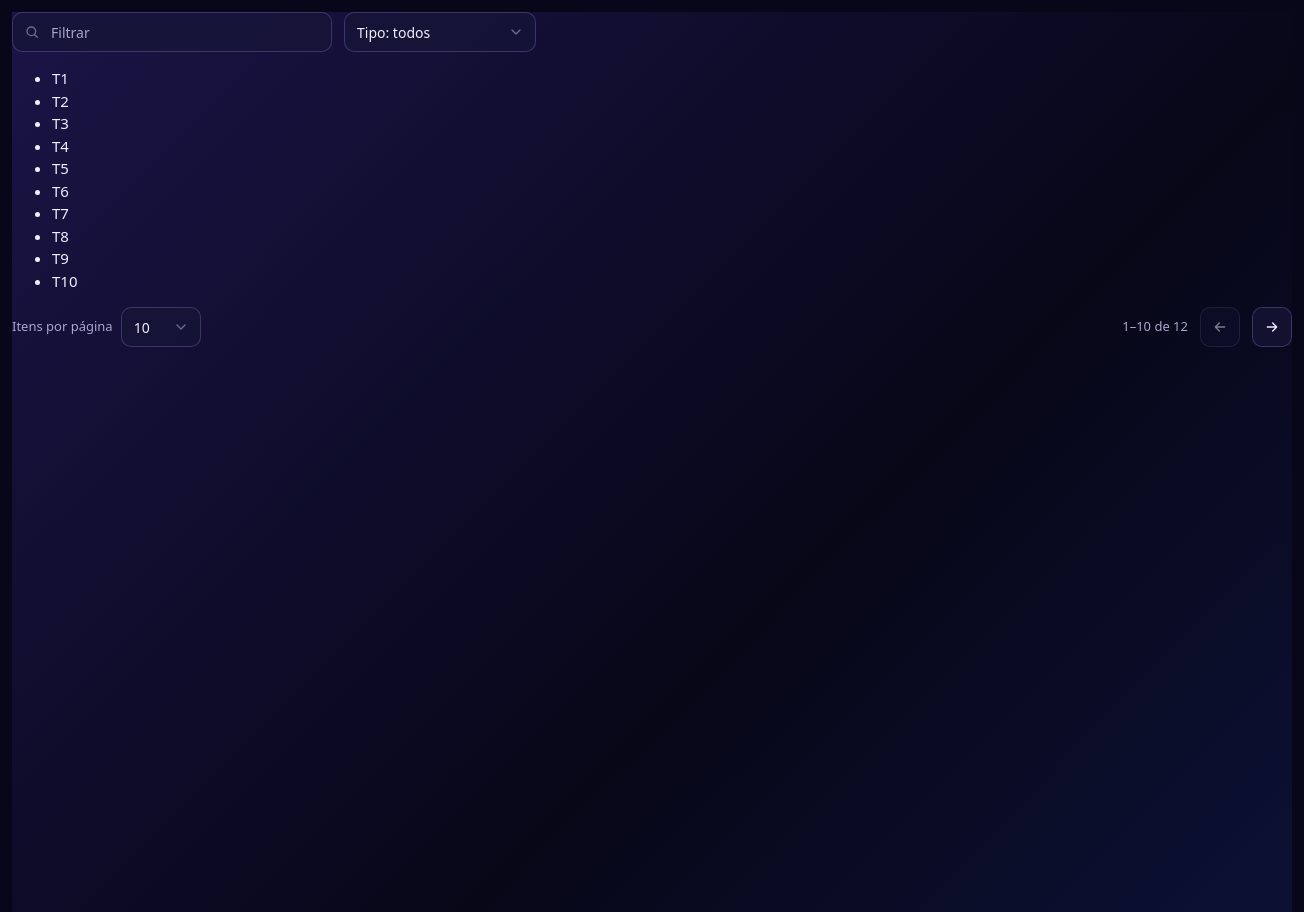
Test case: table paging › a filter change goes back to the first page
The image size is (1304, 912).
Select "5" in the dropdown labelled "Itens por página". click: (161, 327)
box: [121, 307, 201, 347]
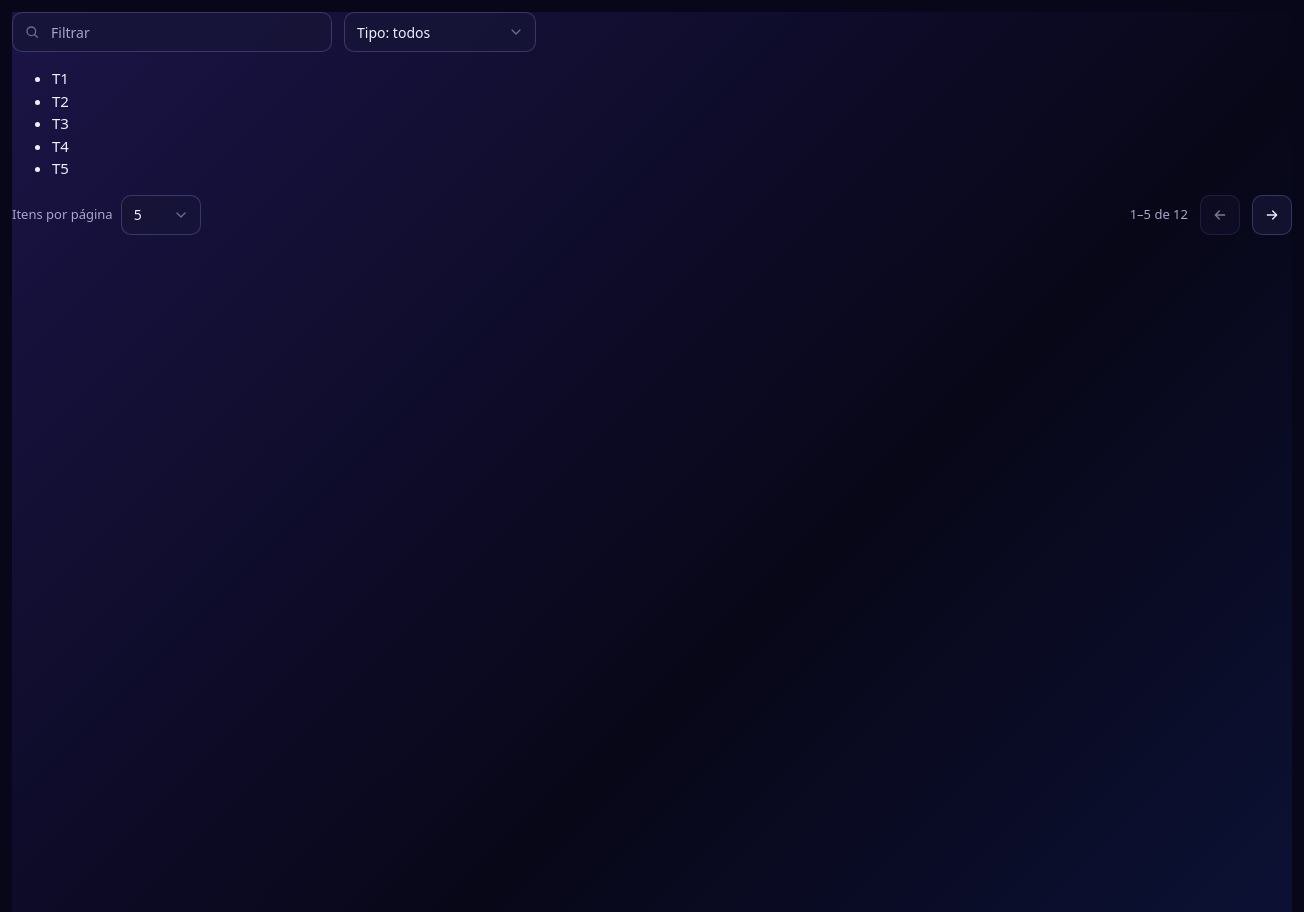
Click the button named "Próxima página". click: (1272, 214)
box: [1252, 194, 1292, 234]
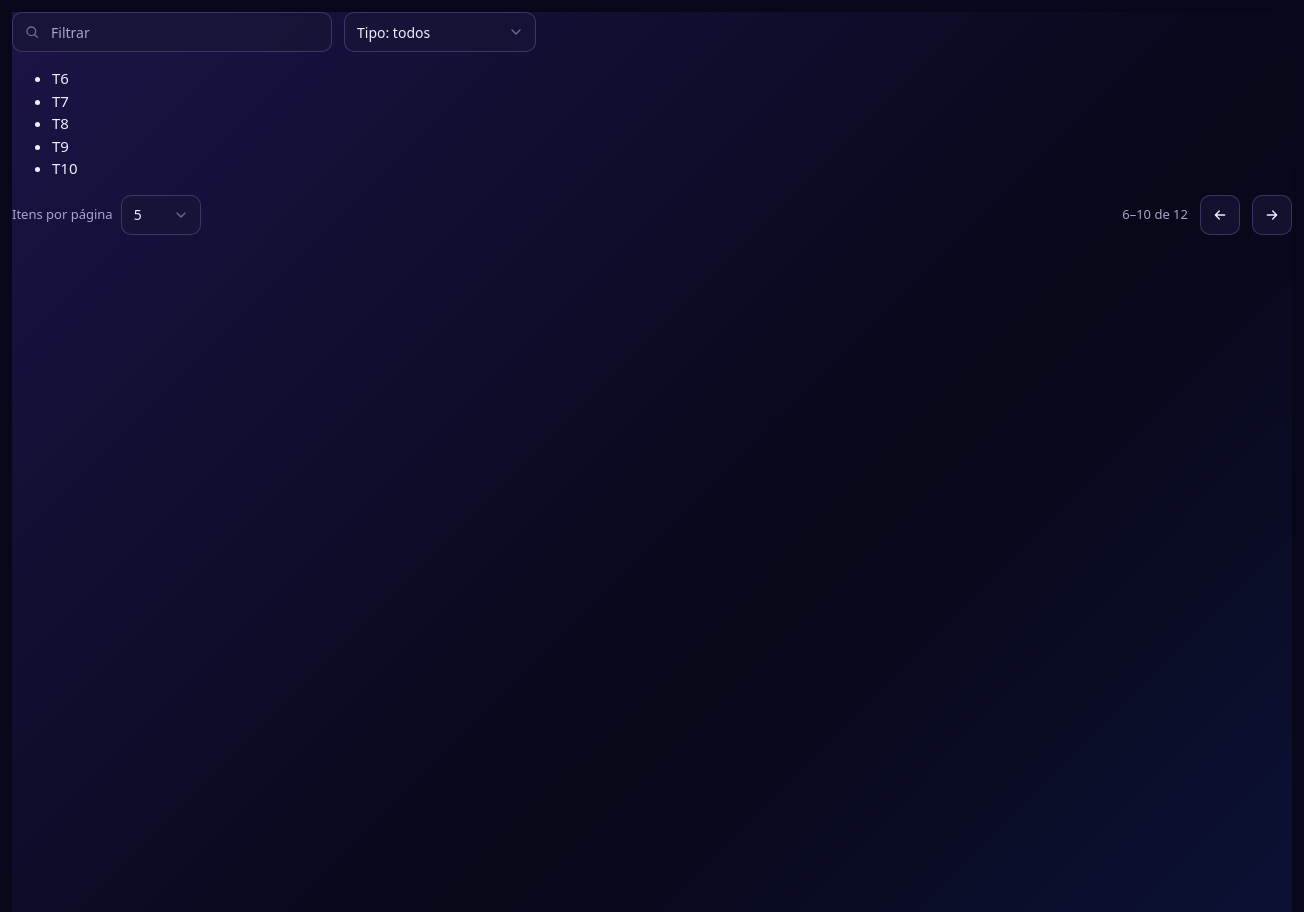
Select "Tipo b" in the dropdown named "Tipo". click: (440, 32)
box: [344, 12, 536, 52]
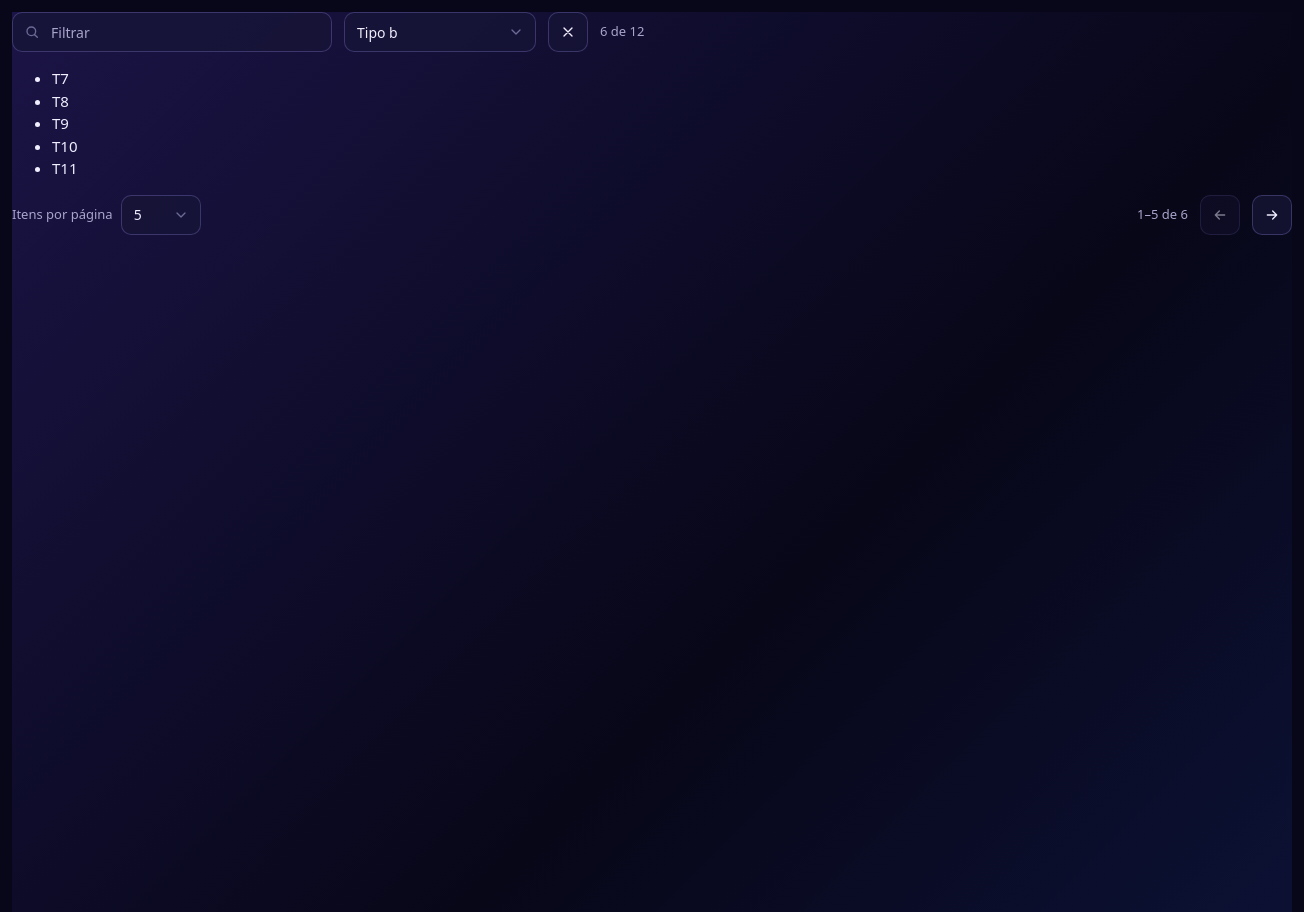
Expected: the text "1–5 de 6" is shown, [1137, 205, 1188, 224]
